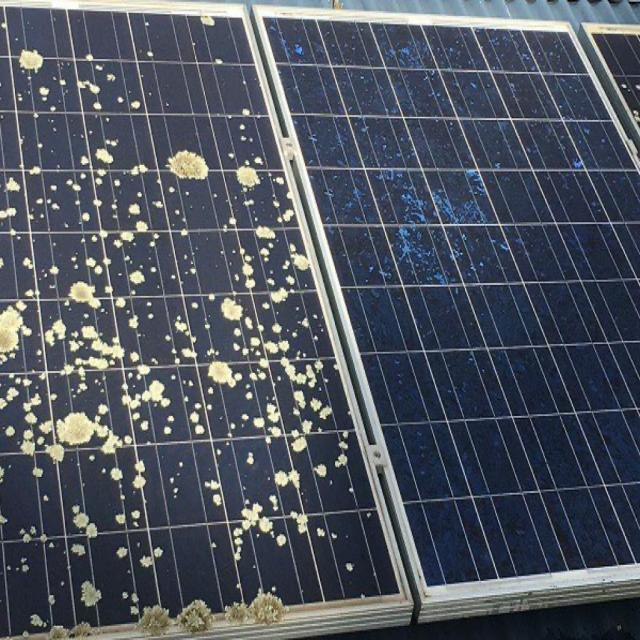dust-solar-panel: (0, 0, 408, 640)
